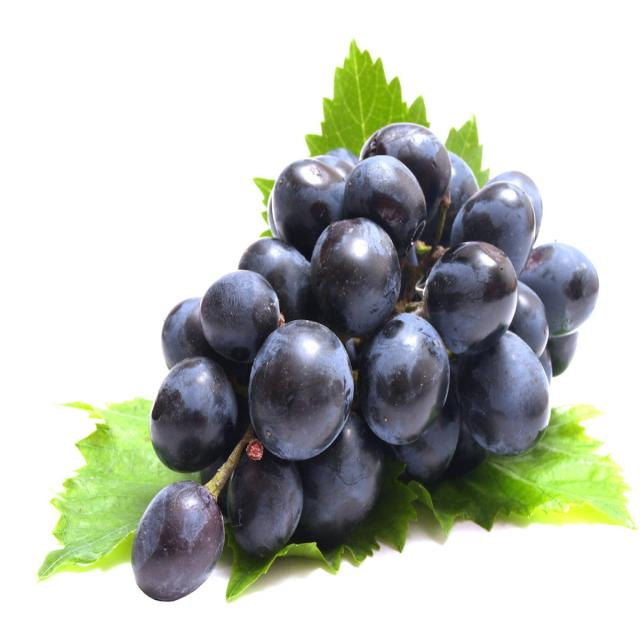grape: (130, 104, 627, 640)
